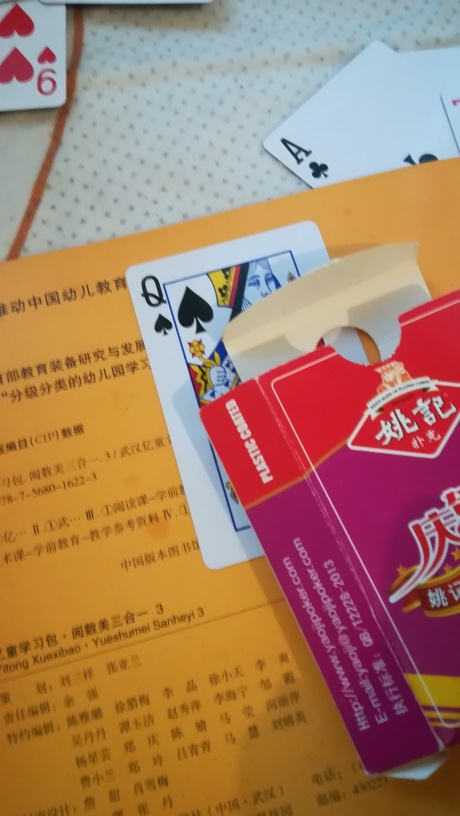ht q: (123, 217, 362, 571)
